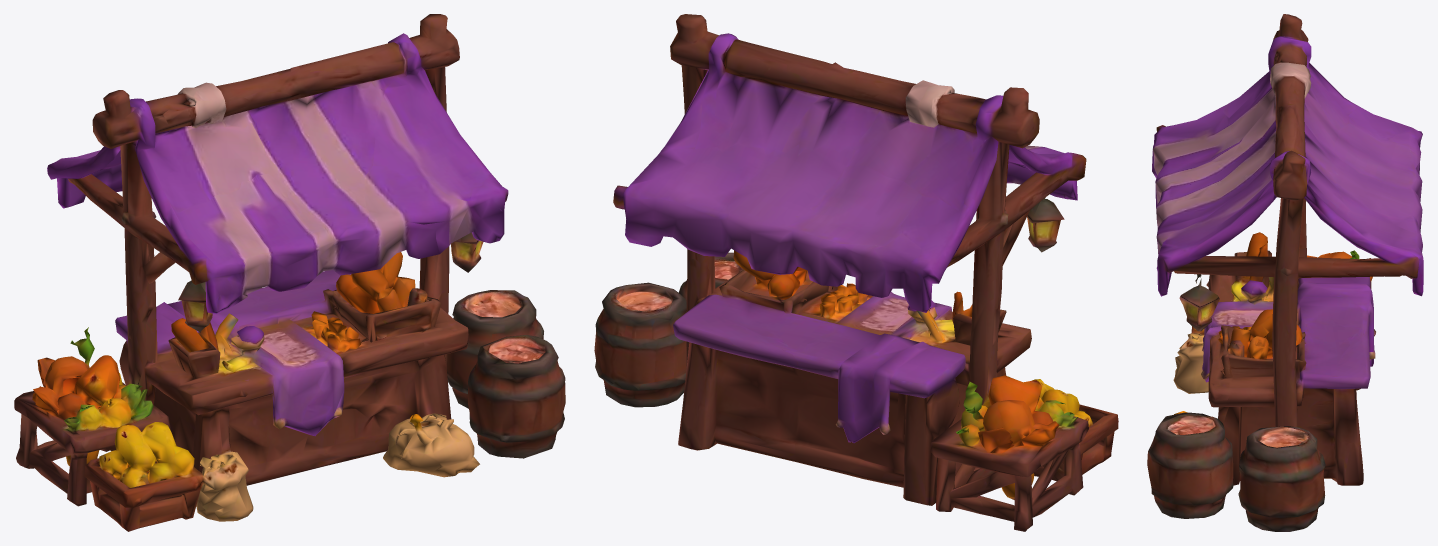
Rendered from tripo-mercado154.glb.
3 renders of one model, left to right at view 1: azimuth 30°, elevation 25°; view 2: azimuth 150°, elevation 25°; view 3: azimuth 270°, elevation 25°, orthographic. The views are drawn at different scales.
Parts seen in each view (by area): view 1: tripo_node_086ec32c-22e1-48db-92b0-0279aad617cf; view 2: tripo_node_086ec32c-22e1-48db-92b0-0279aad617cf; view 3: tripo_node_086ec32c-22e1-48db-92b0-0279aad617cf.
Boxes of the visible parts, box(x1,y1,x2,y2) form: tripo_node_086ec32c-22e1-48db-92b0-0279aad617cf: box(14, 14, 565, 531); tripo_node_086ec32c-22e1-48db-92b0-0279aad617cf: box(594, 14, 1118, 531); tripo_node_086ec32c-22e1-48db-92b0-0279aad617cf: box(1147, 14, 1423, 531).
Size of the model in its own units: 0.9779 by 0.7798 by 0.5622.
1 material, 1 textured.
